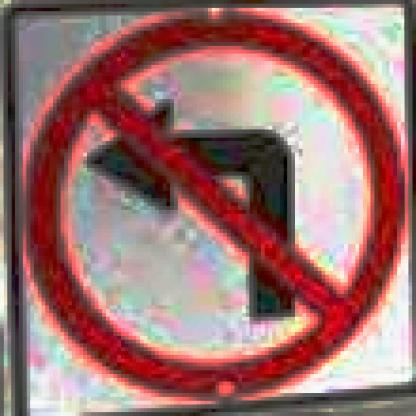No left turn: (26, 12, 411, 396)
